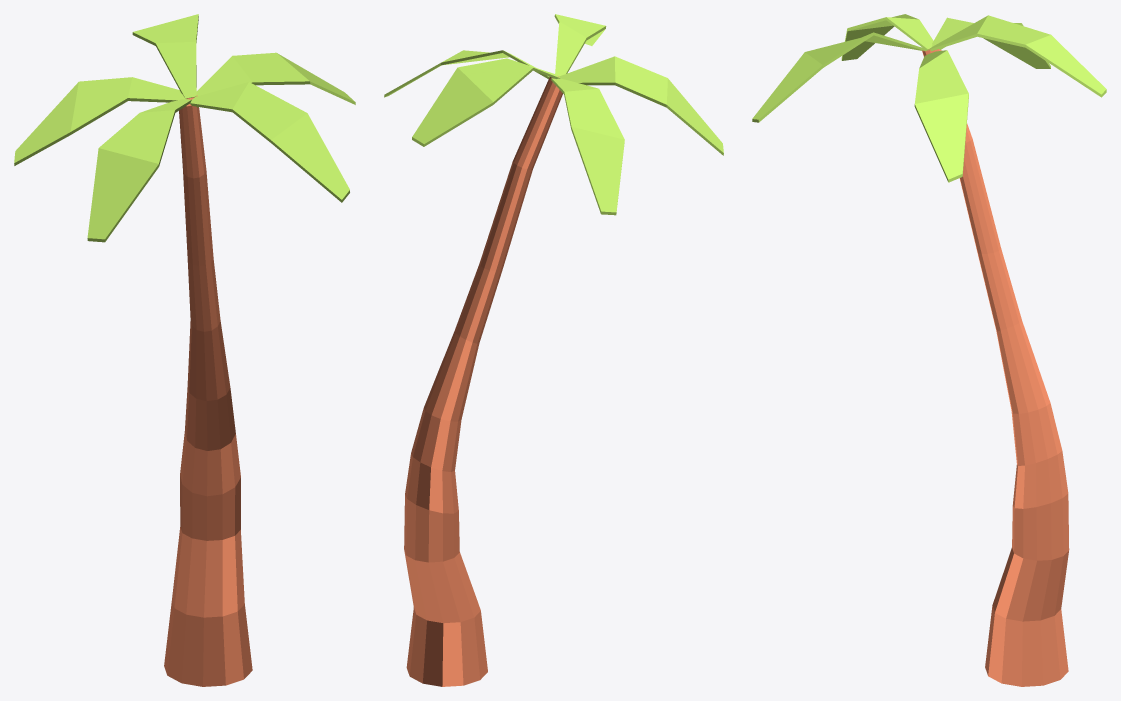
File: Palm2_autumn.FBX
The picture shows the model from 3 angles, left to right: view 1: azimuth 30°, elevation 25°; view 2: azimuth 150°, elevation 25°; view 3: azimuth 270°, elevation 25°; orthographic projection. The views are drawn at different scales.
Parts seen in each view (by area): view 1: Palm_str.002; view 2: Palm_str.002; view 3: Palm_str.002.
Boxes of the visible parts, left/top/right/bottom form: Palm_str.002: left=14, top=14, right=355, bottom=686; Palm_str.002: left=384, top=14, right=723, bottom=686; Palm_str.002: left=752, top=14, right=1106, bottom=686.
Size of the model in its own units: 3.6 by 7.14 by 3.7.
